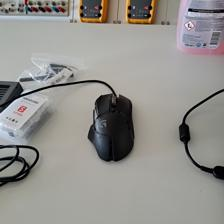mouse: (87, 91, 136, 164)
